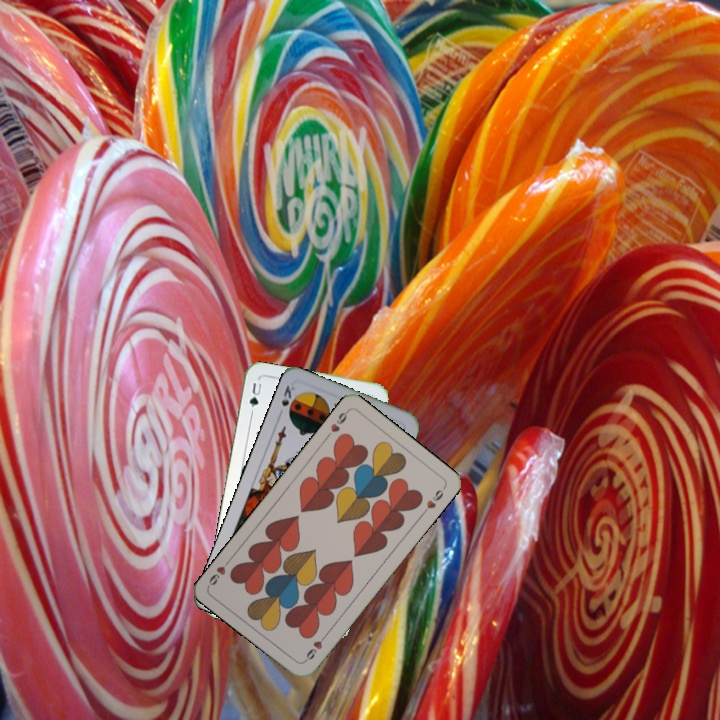GU: (245, 378, 264, 416)
H9: (300, 630, 330, 664), (322, 406, 351, 441)
SK: (274, 381, 297, 419)
